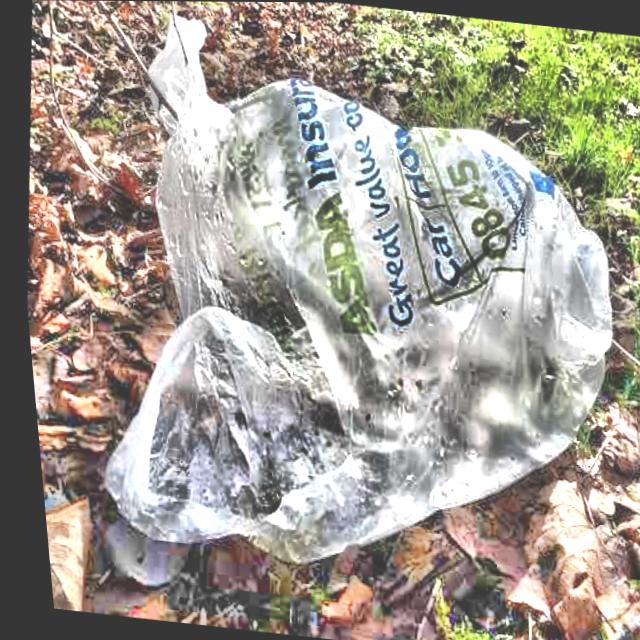Plastic: (46, 0, 640, 610)
